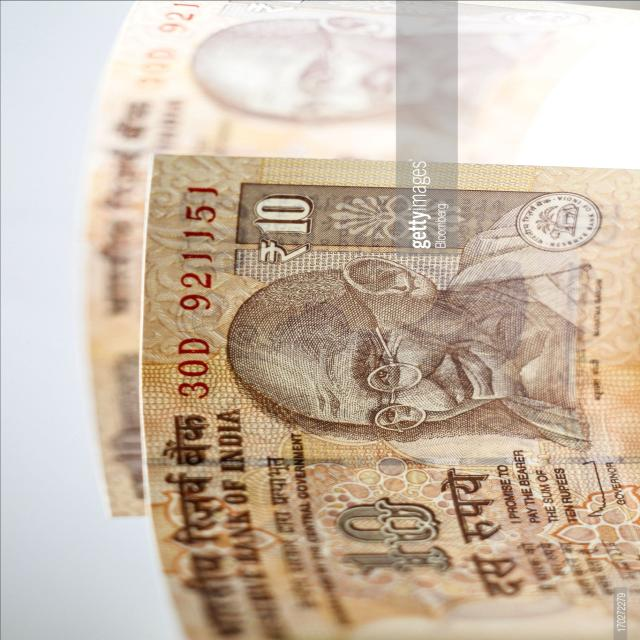10IndianRupees: (155, 164, 640, 609)
